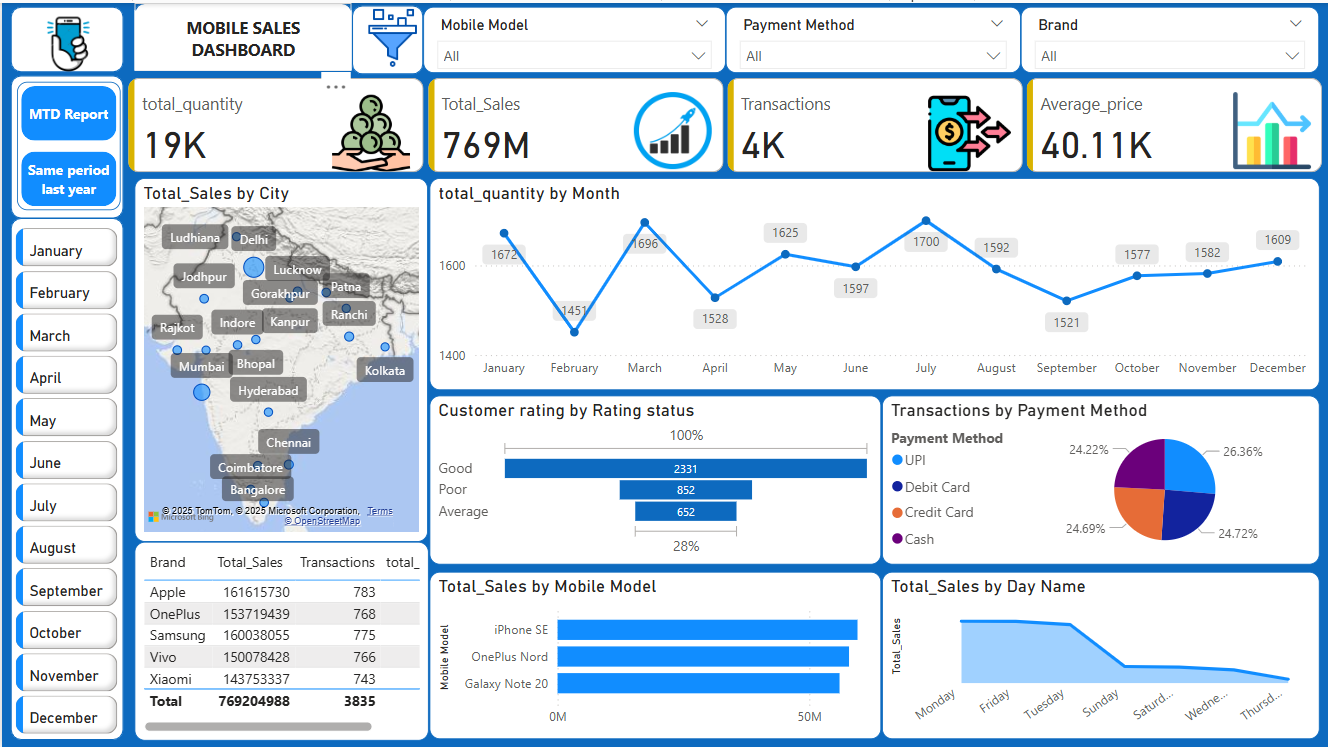

Layout of this report page (visuals, bound fields, positions):
{"tool":"powerbi","page":{"name":" Dashboard","canvas":[1280,720],"ordinal":0},"visuals":[{"type":"shape","box":[8.9,3.8,108.9,63.3],"z":0},{"type":"shape","box":[337.8,2.4,68.8,66.4],"z":1000},{"type":"image","box":[0,0,127.8,83.5],"z":2000},{"type":"shape","box":[8.9,69.6,108.9,138],"z":3000},{"type":"shape","box":[8.9,207.6,108.9,503.8],"z":4000},{"type":"advancedSlicerVisual","fields":{"Values":["Custom Calander.Date.Variation.Date Hierarchy.Month"]},"box":[8.9,212.7,108.9,507.6],"z":5000},{"type":"cardVisual","fields":{"Data":["sale data.total_quantity","sale data.Total_Sales","sale data.Transactions","sale data.Average_price"]},"box":[117,67.6,1163,101.3],"z":6000},{"type":"slicer","fields":{"Values":["sale data.Mobile Model"]},"box":[406.6,3.6,292,63.9],"z":7000},{"type":"slicer","fields":{"Values":["sale data.Payment Method"]},"box":[698.5,3.6,284.7,63.9],"z":8000},{"type":"image","box":[342.6,0,68.8,67.6],"z":9000},{"type":"slicer","fields":{"Values":["sale data.Brand"]},"box":[983.2,3.6,288.3,63.9],"z":10000},{"type":"shape","box":[127.9,0,209.9,65.1],"z":11000},{"type":"textbox","box":[127.9,7.2,209.9,57.9],"z":12000},{"type":"map","fields":{"Category":["sale data.City"],"Size":["sale data.Total_Sales"]},"box":[127.9,168.9,283.5,351.1],"z":13000},{"type":"lineChart","fields":{"Category":["Custom Calander.Date.Variation.Date Hierarchy.Month"],"Y":["sale data.total_quantity"]},"box":[412.6,168.9,859,205.1],"z":14000},{"type":"funnel","title":"Customer rating by Rating status ","fields":{"Y":["CountNonNull(sale data.Customer Ratings)"],"Category":["sale data.Rating status"]},"box":[413,378.7,436.4,163.3],"z":15000},{"type":"pieChart","fields":{"Category":["sale data.Payment Method"],"Y":["sale data.Transactions"]},"box":[849.3,378.8,422.3,162.9],"z":16000},{"type":"clusteredBarChart","fields":{"Category":["sale data.Mobile Model"],"Y":["sale data.Total_Sales"]},"box":[413,548.9,436.4,161.9],"z":17000},{"type":"areaChart","fields":{"Category":["Custom Calander.Day Name"],"Y":["sale data.Total_Sales"]},"box":[849.3,548.9,422.3,161.7],"z":18000},{"type":"tableEx","fields":{"Values":["sale data.Brand","sale data.Total_Sales","sale data.Transactions","sale data.total_quantity"]},"box":[128,520,284,192],"z":19000},{"type":"pageNavigator","box":[14.5,76,100.1,124.3],"z":20000}]}

Visuals, with their boxes in screenshot pixels (x1, y1, x2, y2), scaled from the page's 1280x720 canvas onto the 1328x747 screenshot:
shape: 9 4 122 70
shape: 350 2 422 71
image: 0 0 133 87
shape: 9 72 122 215
shape: 9 215 122 738
advancedSlicerVisual - Custom Calander.Date.Variation.Date Hierarchy.Month: 9 221 122 746
cardVisual - sale data.total_quantity x sale data.Total_Sales: 121 70 1327 175
slicer - sale data.Mobile Model: 422 4 725 70
slicer - sale data.Payment Method: 725 4 1020 70
image: 355 0 427 70
slicer - sale data.Brand: 1020 4 1319 70
shape: 133 0 350 68
textbox: 133 7 350 68
map - sale data.City x sale data.Total_Sales: 133 175 427 540
lineChart - Custom Calander.Date.Variation.Date Hierarchy.Month x sale data.total_quantity: 428 175 1319 388
"Customer rating by Rating status " funnel: 428 393 881 562
pieChart - sale data.Payment Method x sale data.Transactions: 881 393 1319 562
clusteredBarChart - sale data.Mobile Model x sale data.Total_Sales: 428 569 881 737
areaChart - Custom Calander.Day Name x sale data.Total_Sales: 881 569 1319 737
tableEx - sale data.Brand x sale data.Total_Sales: 133 540 427 739
pageNavigator: 15 79 119 208
